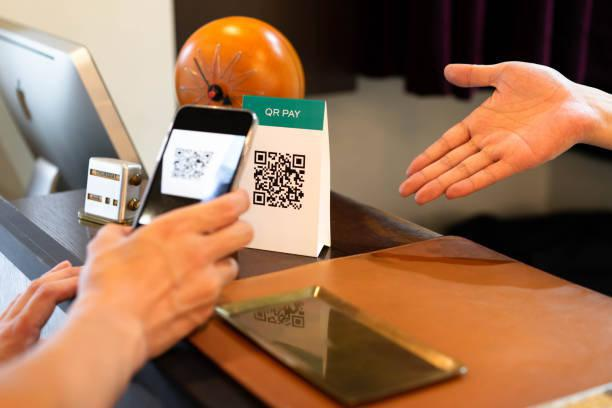Finder pattern: (291, 152, 309, 172), (252, 148, 269, 167), (250, 189, 267, 207), (201, 147, 216, 162), (175, 146, 186, 161)
